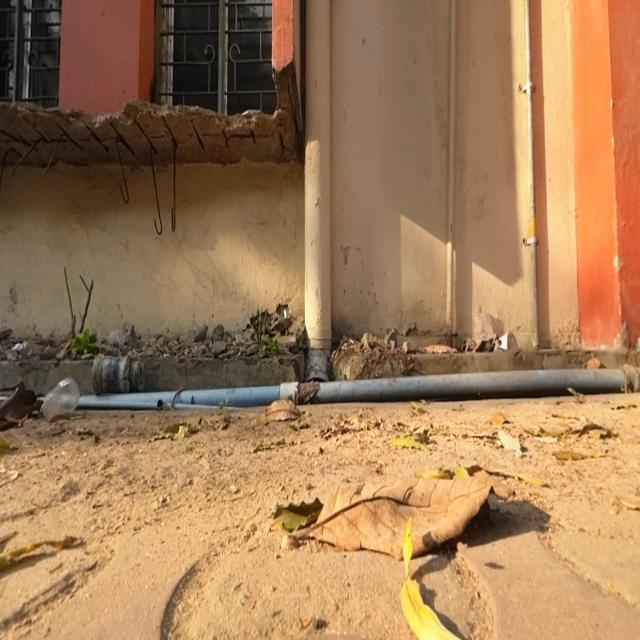Spalling: (0, 69, 299, 203)
